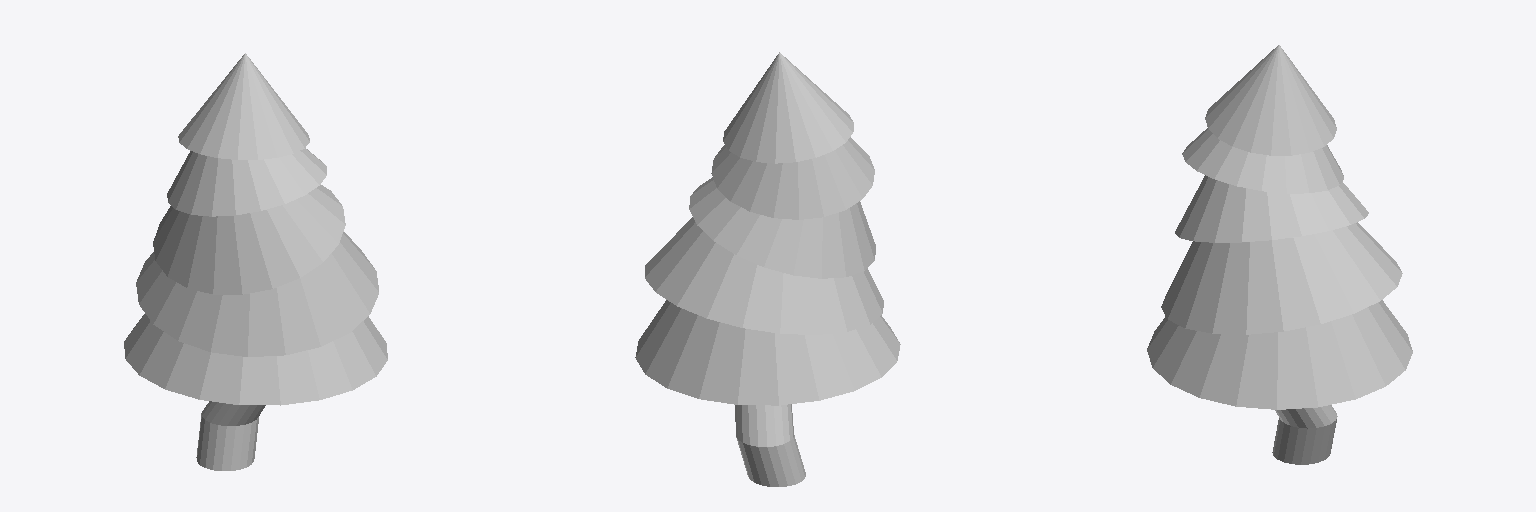
The model's file is Tree_1.obj.
3 renders of one model, left to right at view 1: azimuth 30°, elevation 25°; view 2: azimuth 150°, elevation 25°; view 3: azimuth 270°, elevation 25°, orthographic.
Visible parts, largest first — view 1: pCone6 polySurface4, pCone6 polySurface3, pCone6 polySurface5, pCone6 polySurface1, polySurface2 pCone6, pCylinder1; view 2: pCone6 polySurface5, pCone6 polySurface4, pCone6 polySurface3, pCone6 polySurface1, polySurface2 pCone6, pCylinder1; view 3: pCone6 polySurface4, pCone6 polySurface5, pCone6 polySurface1, pCone6 polySurface3, polySurface2 pCone6, pCylinder1.
Part boxes in pixels (x1,y1,x2,y2): pCone6 polySurface4: (136, 232, 378, 356); pCone6 polySurface3: (153, 185, 345, 294); pCone6 polySurface5: (124, 314, 387, 405); pCone6 polySurface1: (178, 53, 309, 159); polySurface2 pCone6: (167, 148, 326, 216); pCylinder1: (196, 401, 265, 470); pCone6 polySurface5: (635, 300, 900, 405); pCone6 polySurface4: (645, 217, 883, 334); pCone6 polySurface3: (689, 177, 875, 278); pCone6 polySurface1: (723, 52, 853, 163); polySurface2 pCone6: (711, 137, 874, 219); pCylinder1: (735, 404, 805, 486); pCone6 polySurface4: (1161, 222, 1402, 334); pCone6 polySurface5: (1147, 300, 1412, 409); pCone6 polySurface1: (1205, 45, 1336, 155); pCone6 polySurface3: (1175, 175, 1368, 242); polySurface2 pCone6: (1182, 128, 1343, 193); pCylinder1: (1272, 405, 1337, 464).
Bounding box in the file's own units: 59.93 × 103 × 59.95.